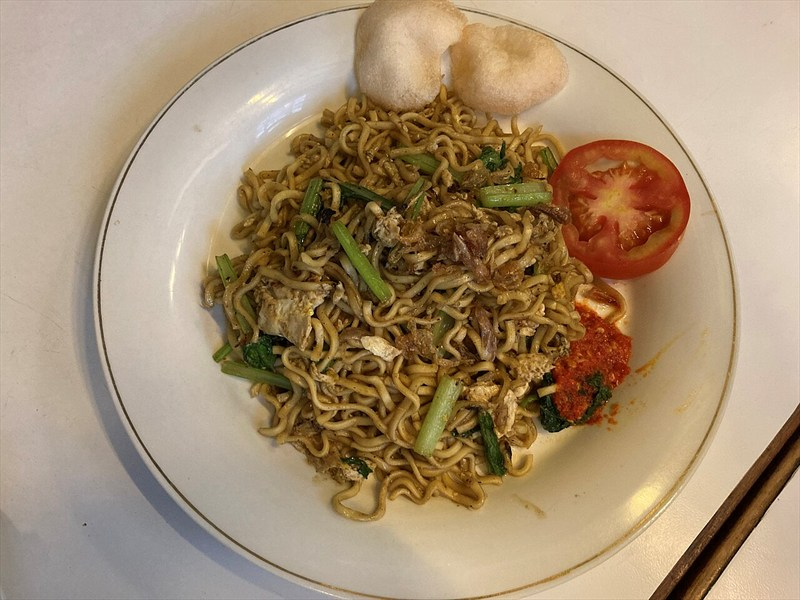Mie Goreng: (222, 109, 728, 511)
